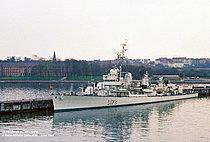MIL_Ship: (50, 66, 199, 111)
